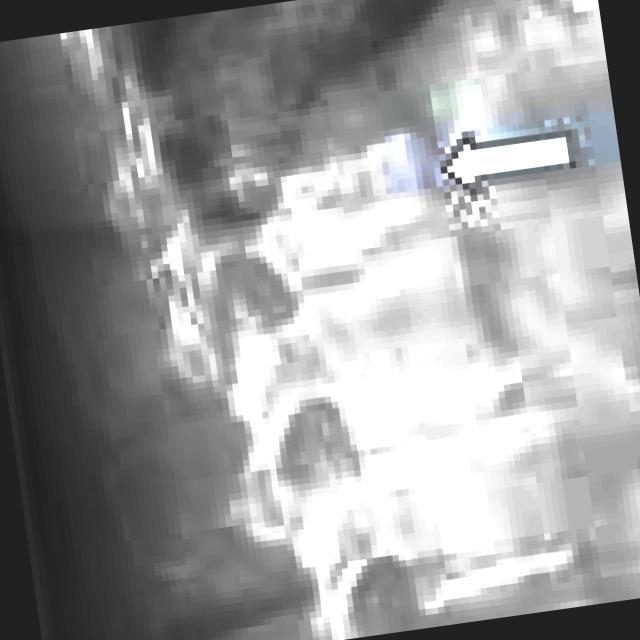Compression-Crush Fracutre: (261, 164, 462, 264)
